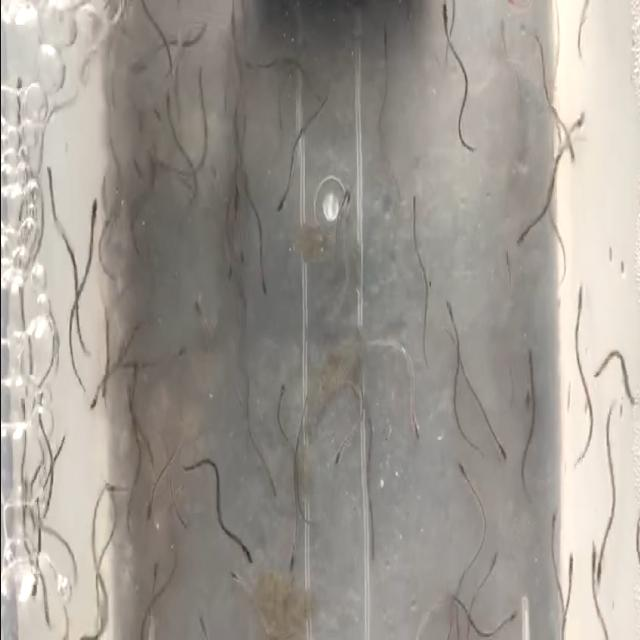active_glass_eel: (436, 0, 451, 50), (442, 290, 458, 334), (284, 528, 300, 572), (568, 108, 588, 142), (570, 274, 584, 320), (590, 537, 600, 597), (257, 243, 267, 301), (87, 190, 100, 234), (489, 433, 508, 463), (563, 124, 577, 164), (486, 543, 501, 579), (42, 164, 56, 202), (594, 550, 606, 592), (524, 341, 536, 383), (276, 176, 290, 212), (272, 382, 286, 418), (267, 468, 281, 504), (88, 378, 101, 416), (238, 539, 252, 573), (512, 223, 530, 249), (499, 606, 520, 628), (366, 529, 378, 566), (378, 20, 389, 60), (408, 406, 420, 442), (142, 486, 154, 522), (193, 608, 207, 638), (26, 564, 38, 598), (100, 359, 108, 405), (452, 458, 467, 482), (104, 478, 122, 498), (566, 548, 574, 592), (332, 439, 344, 468), (225, 564, 242, 584), (549, 502, 557, 544), (149, 557, 158, 594), (409, 189, 417, 229)
